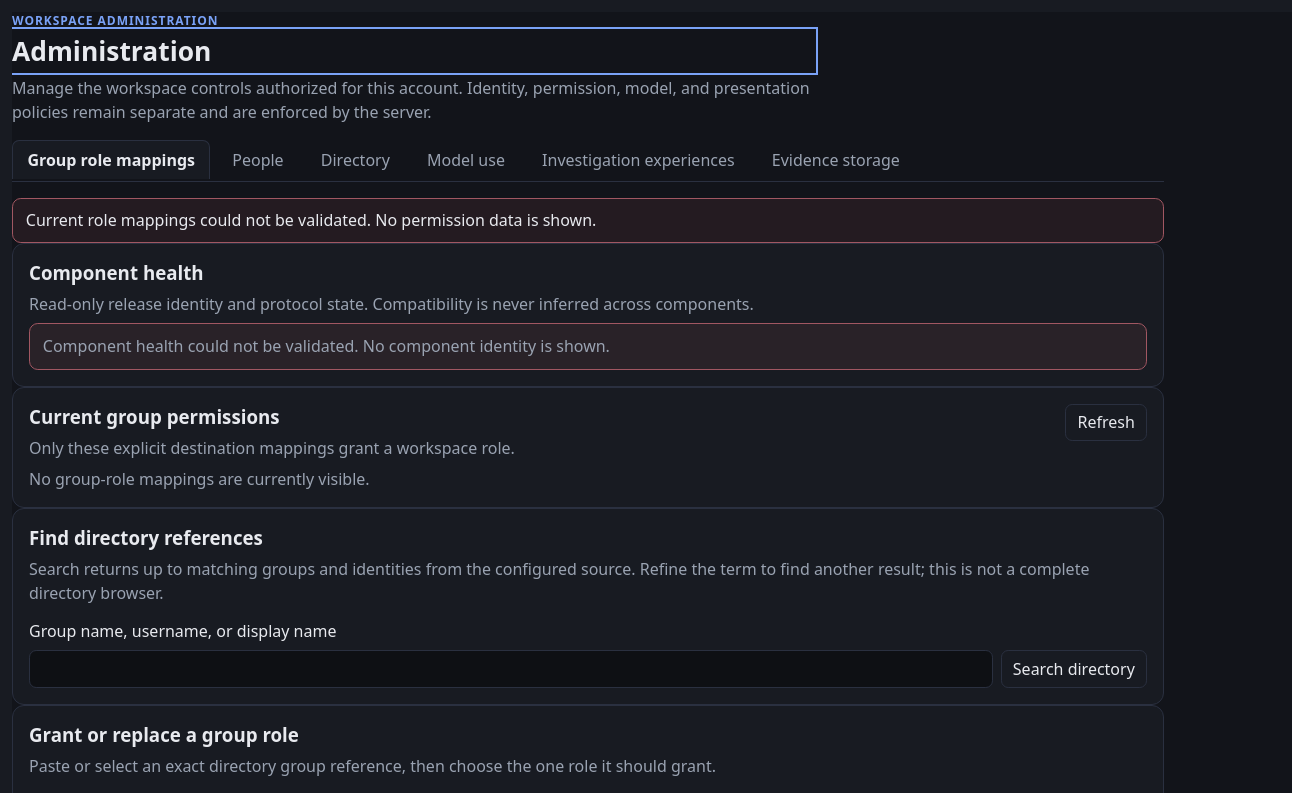
Administration › fails closed on malformed mapping responses and bounds directory failures
This screenshot has width=1292, height=793.
Expected: the message "Current role mappings could not be validated. No permission data is shown." is shown, [12,198,1164,243]
Type "op" into the field labelled "Group name, username, or display name" at {"x": 511, "y": 669}, box [29,650,993,688]
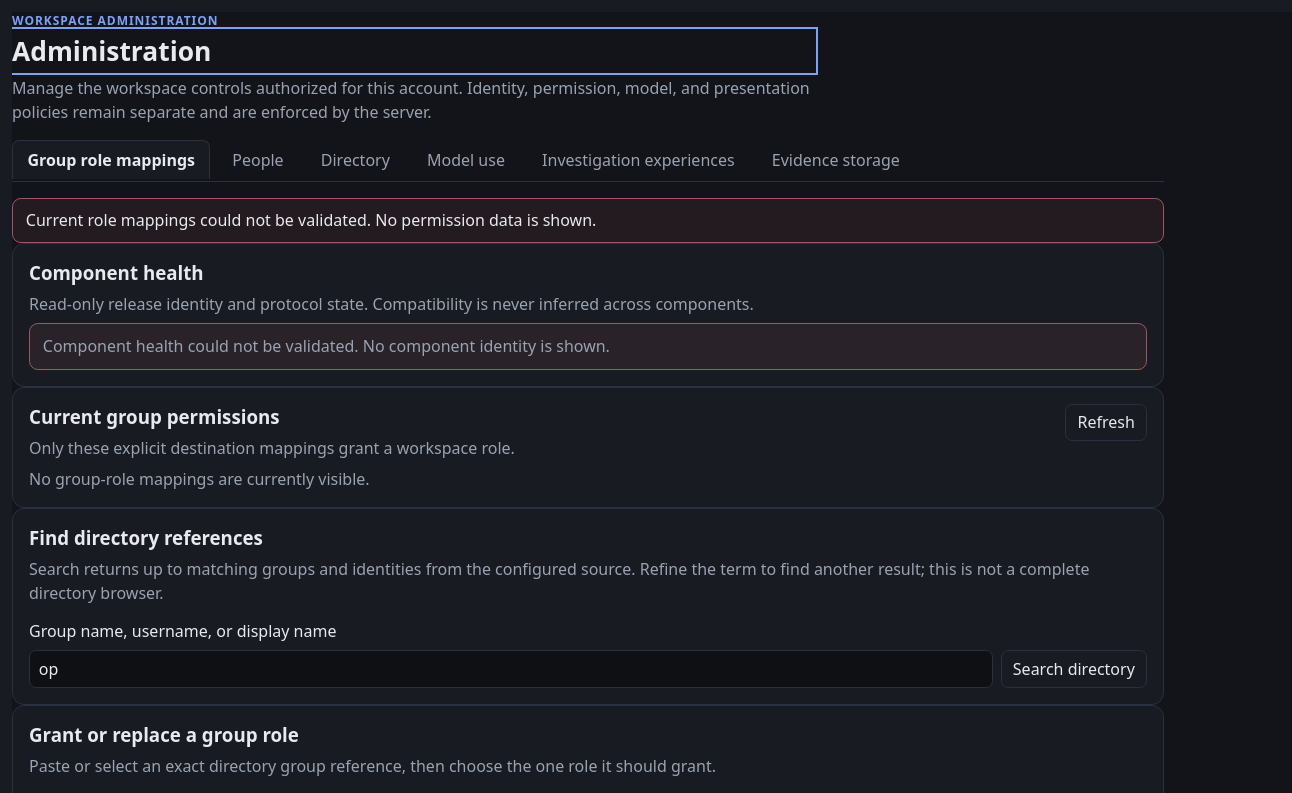
Click the button "Search directory" at {"x": 1074, "y": 669}, box [1001,650,1147,688]
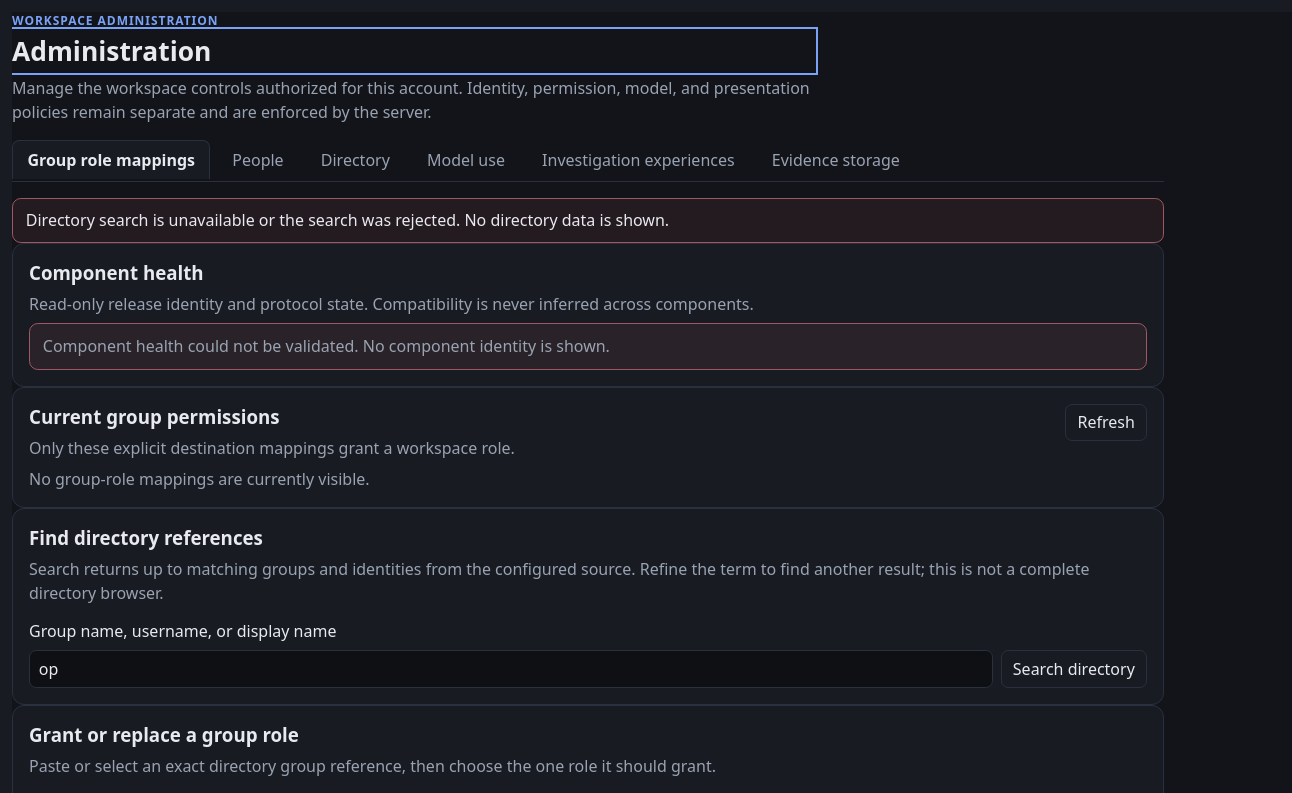
Now the 1st message shows "No directory data is shown", box [26,209,669,231]
